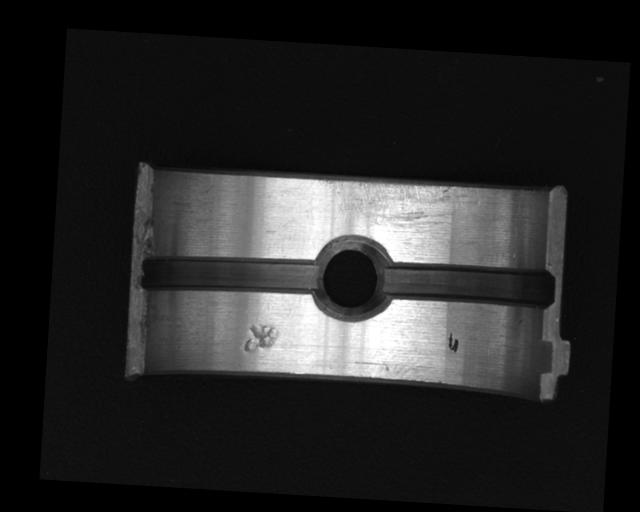blot: (448, 331, 460, 352)
bruise: (243, 322, 279, 355)
gap: (138, 248, 321, 304), (380, 259, 556, 310)
hole: (309, 233, 393, 324)
scratch: (315, 178, 484, 237)
